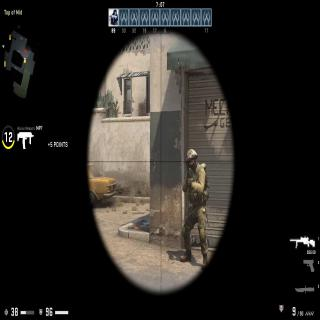CT-Body: (183, 148, 210, 266)
CT-Head: (186, 150, 199, 168)
